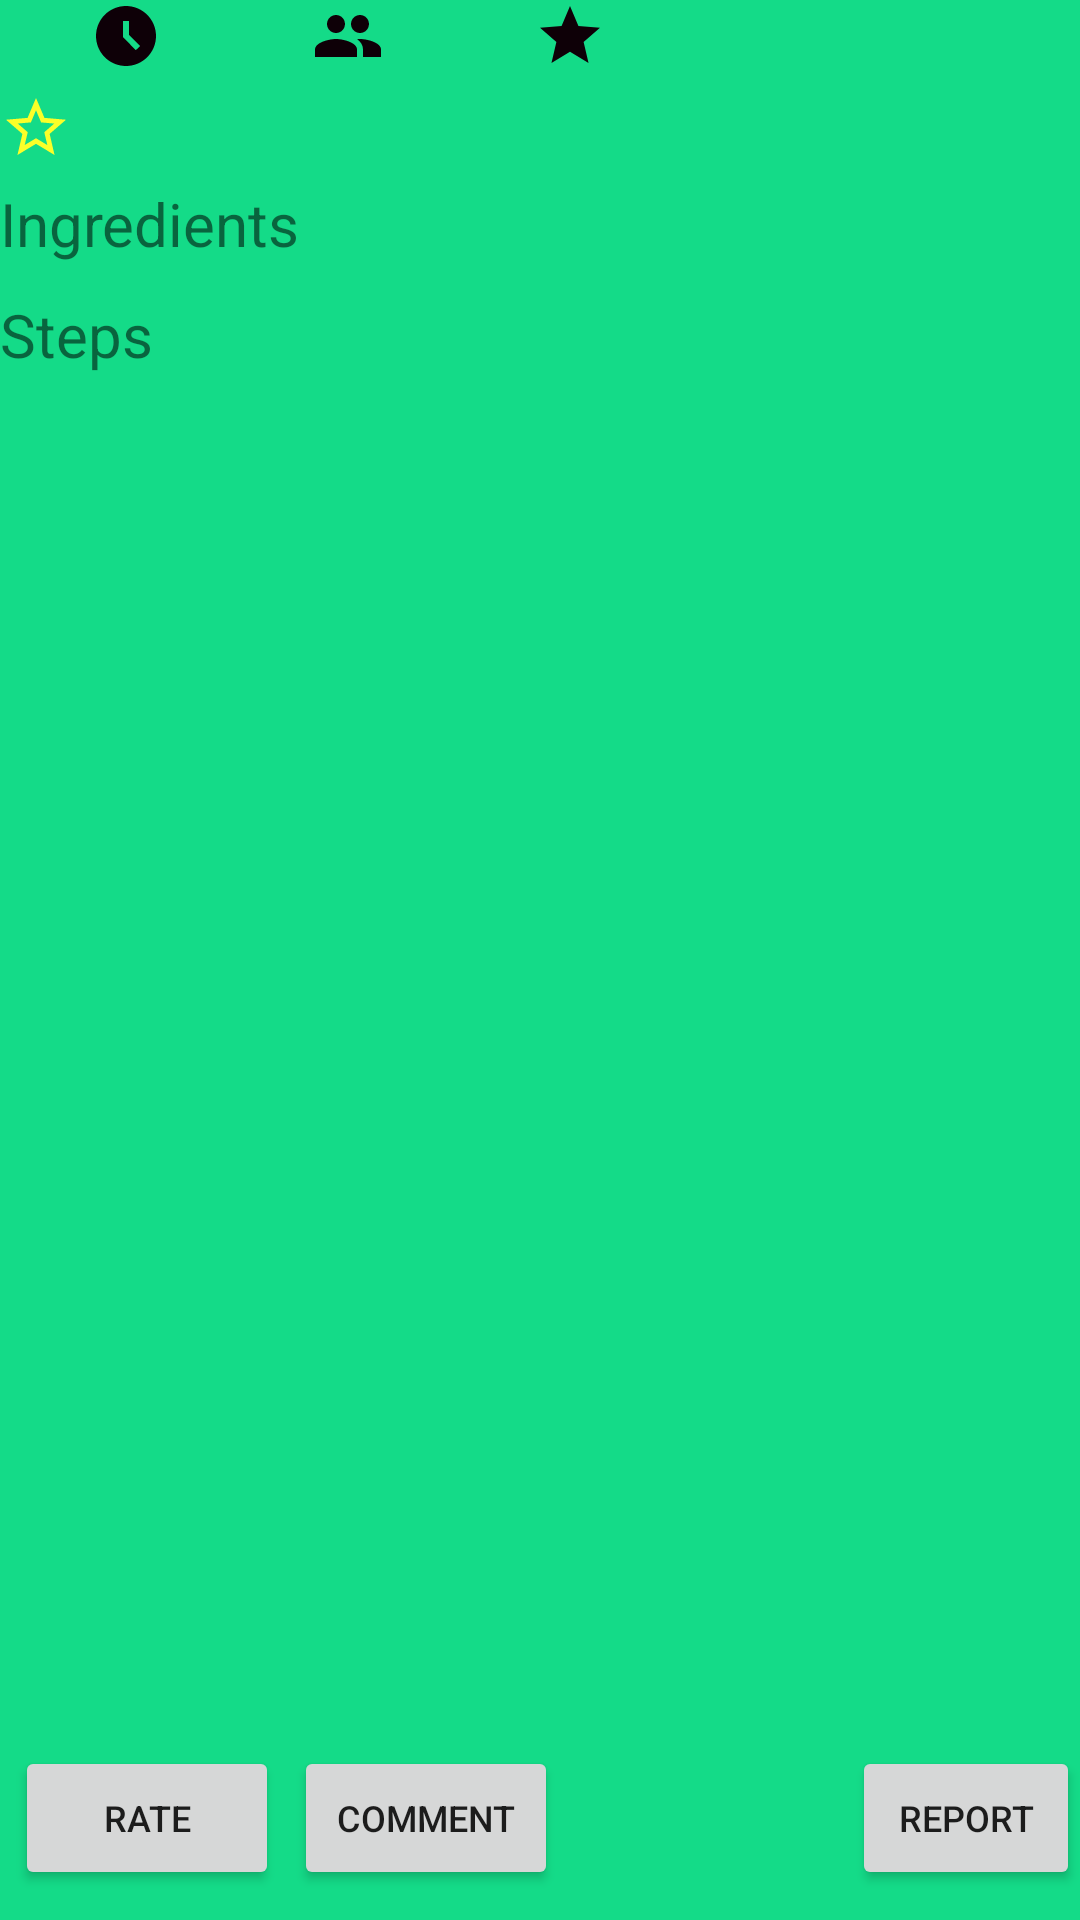

Where to tap for icons on this 1080*1920 app screen, as [x,y]:
clock: [126,36]
Favourite Button: [36,126]
people: [348,36]
star: [570,34]
